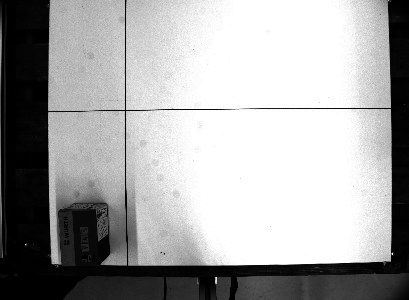b4: (56, 201, 112, 268)
